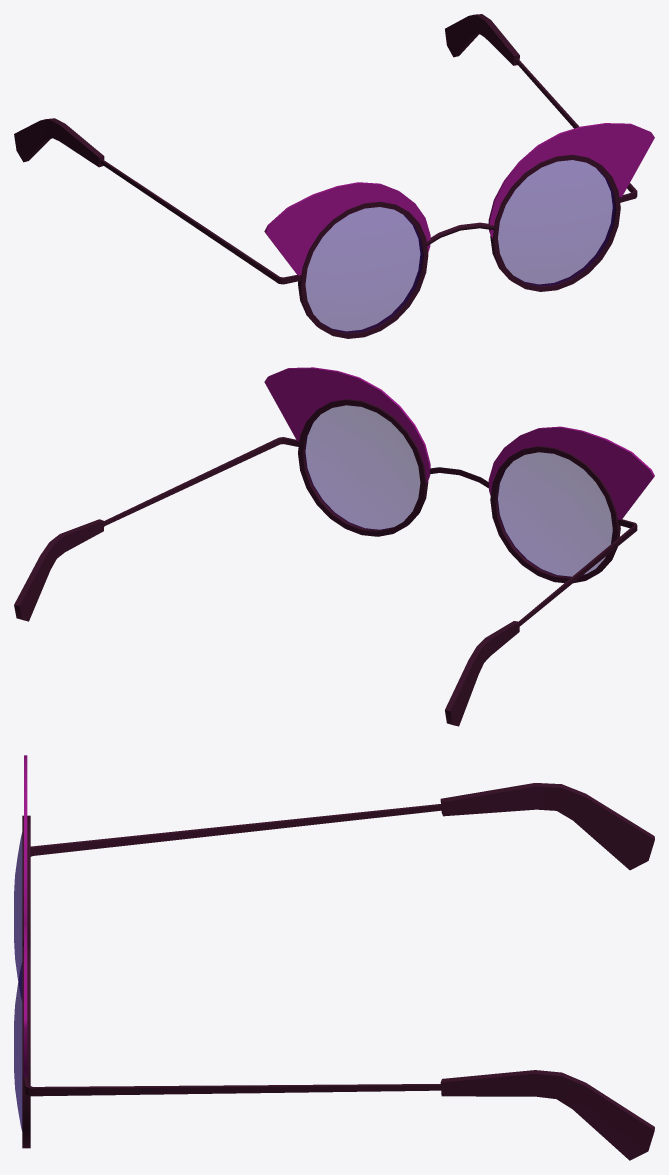
Rendered from WomenRoundSunglasses.fbx.
The picture shows the model from 3 angles, top to bottom: view 1: azimuth 30°, elevation 25°; view 2: azimuth 150°, elevation 25°; view 3: azimuth 270°, elevation 25°; orthographic projection. The views are drawn at different scales.
Parts seen in each view (by area): view 1: WomenRoundSunglasses; view 2: WomenRoundSunglasses; view 3: WomenRoundSunglasses.
Part boxes in pixels (bbox=[...]): WomenRoundSunglasses: bbox=[14, 14, 654, 338]; WomenRoundSunglasses: bbox=[14, 367, 654, 726]; WomenRoundSunglasses: bbox=[14, 755, 654, 1160].
Bounding box in the file's own units: 71.6 × 24.47 × 65.86.
